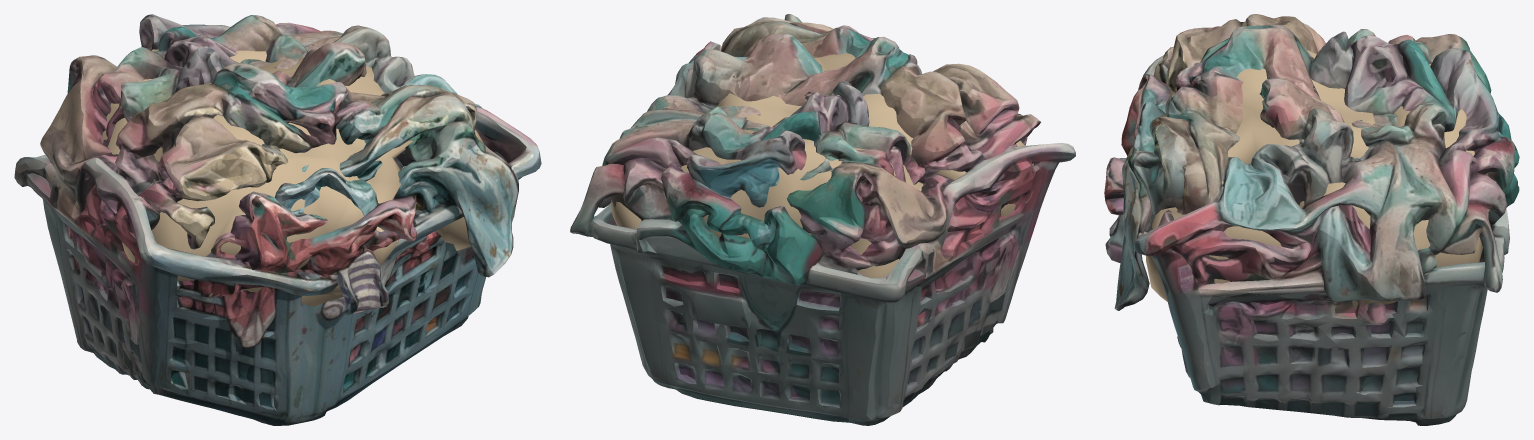
The model's file is basket_chunks.glb.
3 renders of one model, left to right at view 1: azimuth 30°, elevation 25°; view 2: azimuth 150°, elevation 25°; view 3: azimuth 270°, elevation 25°, orthographic. The views are drawn at different scales.
Parts seen in each view (by area): view 1: chunk2_shell, chunk1_shell, chunk4_shell, chunk0_shell, chunk2_core, chunk3_shell, chunk1_core, chunk0_core, chunk4_core, chunk5_shell; view 2: chunk1_shell, chunk2_shell, chunk5_shell, chunk3_shell, chunk1_core, chunk2_core, chunk0_shell, chunk3_core; view 3: chunk0_shell, chunk3_shell, chunk2_shell, chunk1_shell, chunk2_core, chunk3_core, chunk0_core, chunk4_shell, chunk1_core, chunk5_shell.
Boxes of the visible parts, <box> form: chunk2_shell: <box>97,25,466,366</box>; chunk1_shell: <box>14,14,342,387</box>; chunk4_shell: <box>136,157,428,425</box>; chunk0_shell: <box>403,64,541,341</box>; chunk2_core: <box>117,57,413,292</box>; chunk3_shell: <box>339,32,435,378</box>; chunk1_core: <box>102,49,266,154</box>; chunk0_core: <box>436,129,483,250</box>; chunk4_core: <box>302,166,416,306</box>; chunk5_shell: <box>75,334,142,385</box>; chunk1_shell: <box>616,111,1020,406</box>; chunk2_shell: <box>641,14,1075,270</box>; chunk5_shell: <box>625,201,971,425</box>; chunk3_shell: <box>570,83,690,396</box>; chunk1_core: <box>663,129,923,278</box>; chunk2_core: <box>716,53,1033,216</box>; chunk0_shell: <box>668,15,786,97</box>; chunk3_core: <box>611,199,641,229</box>; chunk0_shell: <box>1114,153,1399,407</box>; chunk3_shell: <box>1259,174,1505,425</box>; chunk2_shell: <box>1106,14,1415,187</box>; chunk1_shell: <box>1362,29,1519,220</box>; chunk2_core: <box>1125,50,1375,164</box>; chunk3_core: <box>1299,182,1483,309</box>; chunk0_core: <box>1146,181,1281,301</box>; chunk4_shell: <box>1104,176,1190,377</box>; chunk1_core: <box>1394,59,1474,155</box>; chunk5_shell: <box>1479,210,1509,262</box>.
Size of the model in its own units: 0.6077 by 0.5 by 0.55.
Materials: 1 (1 with a texture image).
